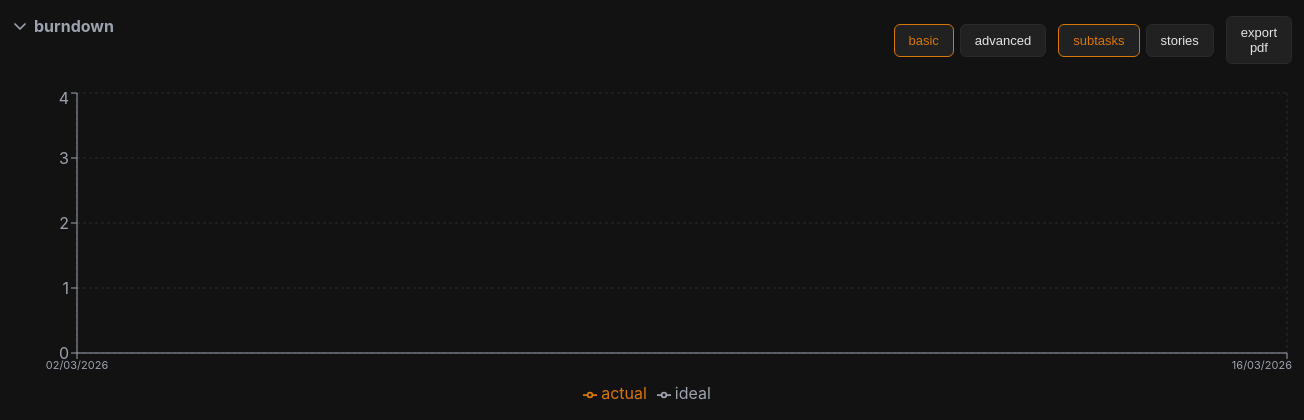
it: BurndownSection › switches to the per-milestone chart when the advanced toggle is clicked
The width and height of the screenshot is (1304, 420).
Click the button "advanced": {"x": 1003, "y": 40} [960,24,1046,56]
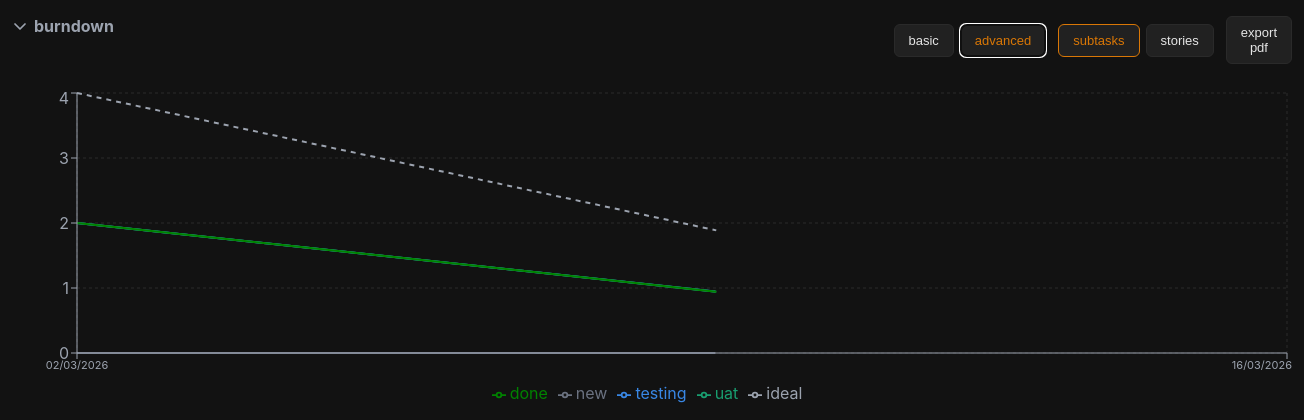
Expected: the text "new" is shown, [576,383,607,403]
Expected: the text "testing" is shown, [635,383,687,403]
Expected: the text "uat" is shown, [715,383,738,403]
